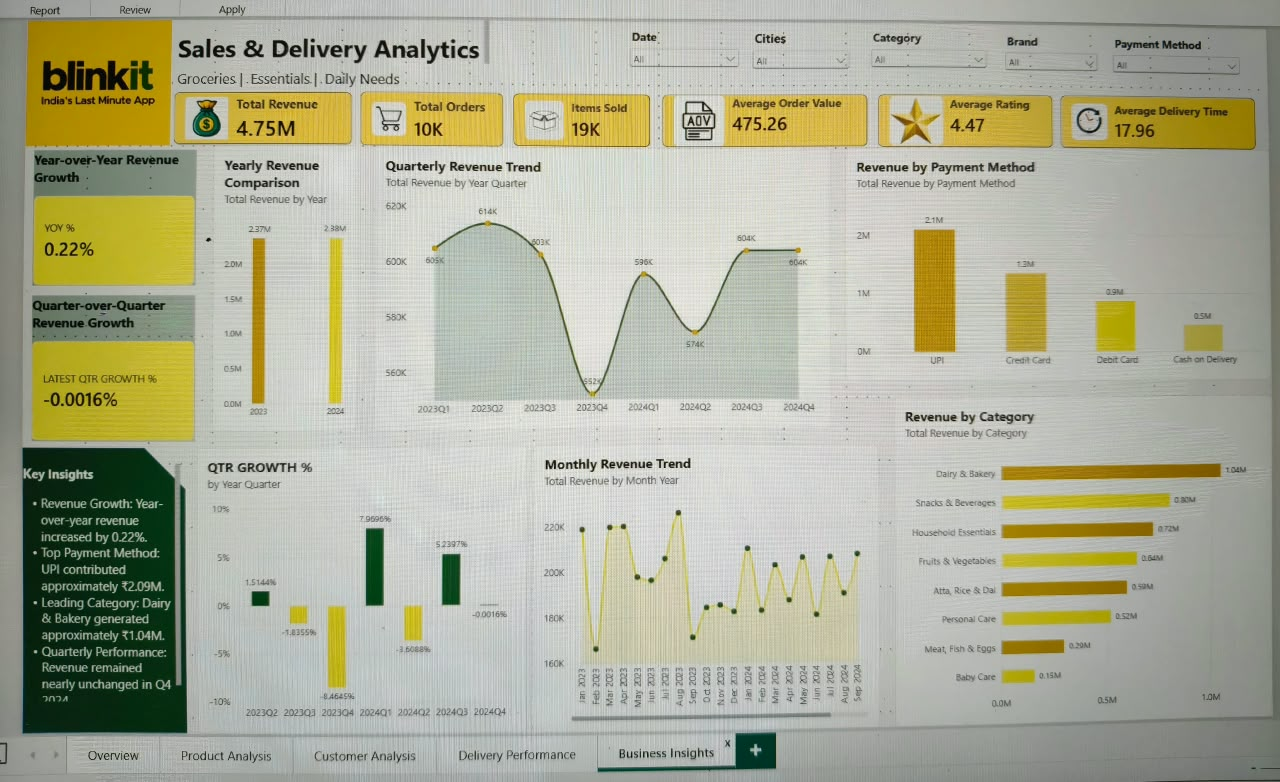

Layout of this report page (visuals, bound fields, positions):
{"tool":"powerbi","page":{"name":"Business Insights","canvas":[1920,1080],"ordinal":4},"visuals":[{"type":"image","box":[0,0,221.7,192.1],"z":0},{"type":"textbox","box":[232.1,0,471.5,75.4],"z":4},{"type":"textbox","box":[372,192,804,138],"z":5},{"type":"textbox","box":[372,330,804,74],"z":6},{"type":"textbox","box":[232.1,75.4,818.8,35.5],"z":7},{"type":"slicer","fields":{"Values":["Calendar1.Date"]},"box":[910.5,10.5,177.4,69.4],"z":8},{"type":"slicer","fields":{"Values":["Cities.City"]},"box":[1100.6,10.5,158.7,68],"z":9},{"type":"slicer","fields":{"Values":["Orders.Category"]},"box":[1282,10.5,190.1,69.8],"z":10},{"type":"slicer","fields":{"Values":["Orders.Brand"]},"box":[1491.3,14,156.5,72.6],"z":11},{"type":"slicer","fields":{"Values":["Orders.Payment Method"]},"box":[1664,15.7,216.3,64.5],"z":12},{"type":"cardVisual","fields":{"Data":["Calendar1.Total Revenue"]},"box":[226.1,110.9,270.5,81.3],"z":13},{"type":"cardVisual","fields":{"Data":["Calendar1.Total Orders"]},"box":[508.5,110.9,214.3,81.3],"z":14},{"type":"cardVisual","fields":{"Data":["Calendar1.Items Sold"]},"box":[737.8,109.9,209.3,80.2],"z":15},{"type":"cardVisual","fields":{"Data":["Calendar1.Average Order Value"]},"box":[966.3,109.9,315.7,80.2],"z":16},{"type":"cardVisual","fields":{"Data":["Calendar1.Average Rating"]},"box":[1297.7,109.9,272.1,82],"z":17},{"type":"cardVisual","fields":{"Data":["Calendar1.Average Delivery Time"]},"box":[1583.7,109.9,315.7,82],"z":18},{"type":"clusteredColumnChart","title":"Yearly Revenue Comparison","fields":{"Category":["Calendar1.Year"],"Y":["Calendar1.Total Revenue"]},"box":[288,192,216,432],"z":25},{"type":"lineChart","title":"Quarterly Revenue Trend","fields":{"Category":["Calendar1.Year Quarter"],"Y":["Calendar1.Total Revenue"]},"box":[528,192,696,432],"z":28},{"type":"clusteredColumnChart","fields":{"Category":["Calendar1.Year Quarter"],"Y":["Calendar1.QTR GROWTH %"]},"box":[264,648,494,431],"z":29},{"type":"lineChart","title":"Monthly Revenue Trend","fields":{"Category":["Calendar1.Month Year"],"Y":["Calendar1.Total Revenue"]},"box":[768,648,528,432],"z":30},{"type":"clusteredBarChart","title":"Revenue by Category","fields":{"Category":["Orders.Category"],"Y":["Calendar1.Total Revenue"]},"box":[1320,576,600,504],"z":31},{"type":"clusteredColumnChart","title":"Revenue by Payment Method","fields":{"Category":["Orders.Payment Method"],"Y":["Calendar1.Total Revenue"]},"box":[1248,192,672,360],"z":32},{"type":"cardVisual","title":"Year-over-Year Revenue Growth","fields":{"Data":["Calendar1.YOY %"]},"box":[14.4,197.6,247.7,205.8],"z":33},{"type":"cardVisual","title":"Quarter-over-Quarter Revenue Growth","fields":{"Data":["Calendar1.LATEST QTR GROWTH %"]},"box":[14.4,417.8,247.7,219.8],"z":34},{"type":"shape","box":[0,648,248,431],"z":35},{"type":"textbox","box":[0,672,240,360],"z":36},{"type":"textbox","box":[96,96,312,168],"z":37}]}

Visuals, with their boxes on the page's 1920x1080 design canvas (x1, y1, x2, y2). These are canvas units, not pixel positions in the 1280x782 screenshot, which may show the page scaled, cropped or inside an application window:
image: bbox=(0, 0, 222, 192)
textbox: bbox=(232, 0, 704, 75)
textbox: bbox=(372, 192, 1176, 330)
textbox: bbox=(372, 330, 1176, 404)
textbox: bbox=(232, 75, 1051, 111)
slicer - Calendar1.Date: bbox=(910, 10, 1088, 80)
slicer - Cities.City: bbox=(1101, 10, 1259, 78)
slicer - Orders.Category: bbox=(1282, 10, 1472, 80)
slicer - Orders.Brand: bbox=(1491, 14, 1648, 87)
slicer - Orders.Payment Method: bbox=(1664, 16, 1880, 80)
cardVisual - Calendar1.Total Revenue: bbox=(226, 111, 497, 192)
cardVisual - Calendar1.Total Orders: bbox=(508, 111, 723, 192)
cardVisual - Calendar1.Items Sold: bbox=(738, 110, 947, 190)
cardVisual - Calendar1.Average Order Value: bbox=(966, 110, 1282, 190)
cardVisual - Calendar1.Average Rating: bbox=(1298, 110, 1570, 192)
cardVisual - Calendar1.Average Delivery Time: bbox=(1584, 110, 1899, 192)
"Yearly Revenue Comparison" clusteredColumnChart: bbox=(288, 192, 504, 624)
"Quarterly Revenue Trend" lineChart: bbox=(528, 192, 1224, 624)
clusteredColumnChart - Calendar1.Year Quarter x Calendar1.QTR GROWTH %: bbox=(264, 648, 758, 1079)
"Monthly Revenue Trend" lineChart: bbox=(768, 648, 1296, 1080)
"Revenue by Category" clusteredBarChart: bbox=(1320, 576, 1920, 1080)
"Revenue by Payment Method" clusteredColumnChart: bbox=(1248, 192, 1920, 552)
"Year-over-Year Revenue Growth" cardVisual: bbox=(14, 198, 262, 403)
"Quarter-over-Quarter Revenue Growth" cardVisual: bbox=(14, 418, 262, 638)
shape: bbox=(0, 648, 248, 1079)
textbox: bbox=(0, 672, 240, 1032)
textbox: bbox=(96, 96, 408, 264)
